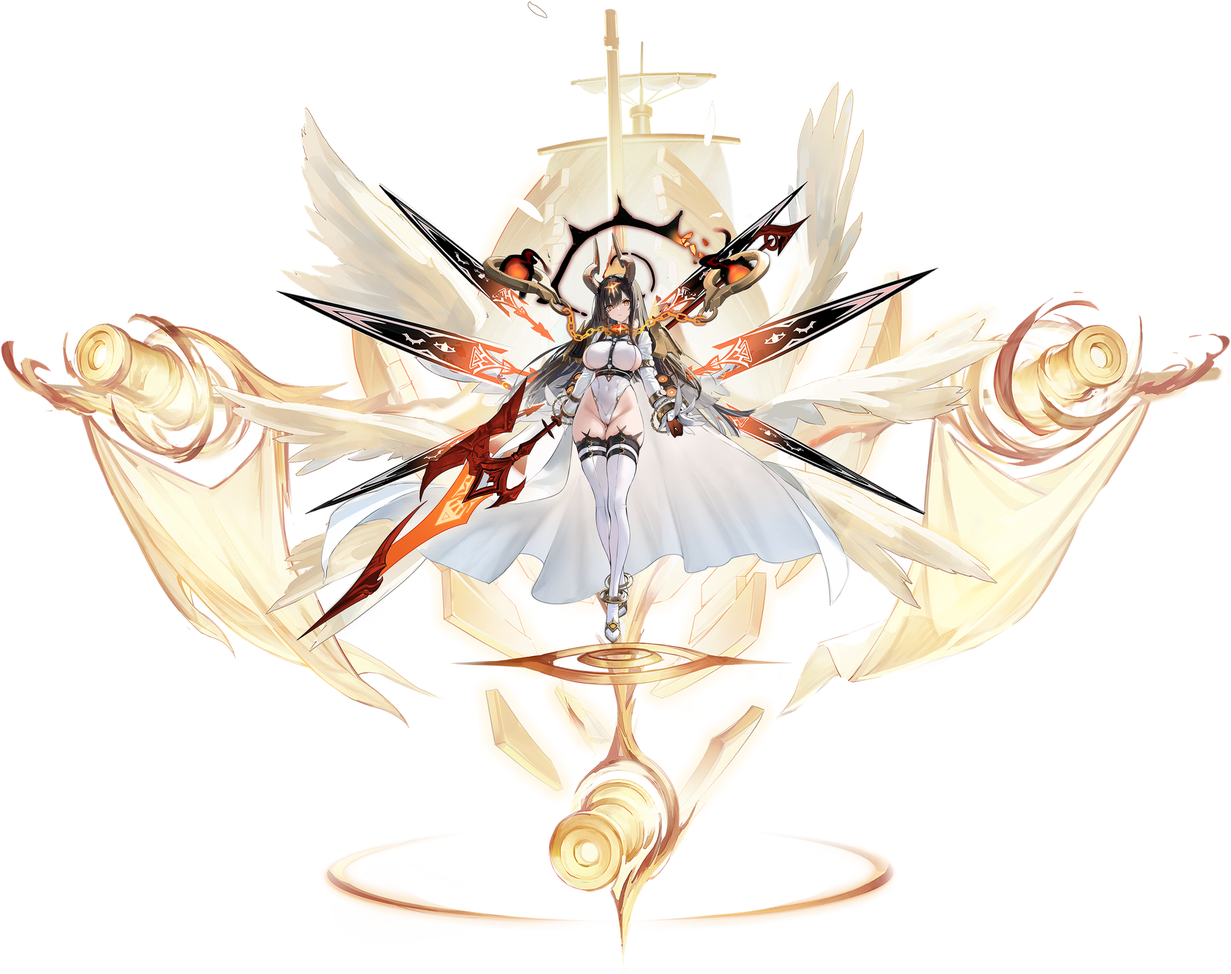person: (482, 182, 735, 666)
